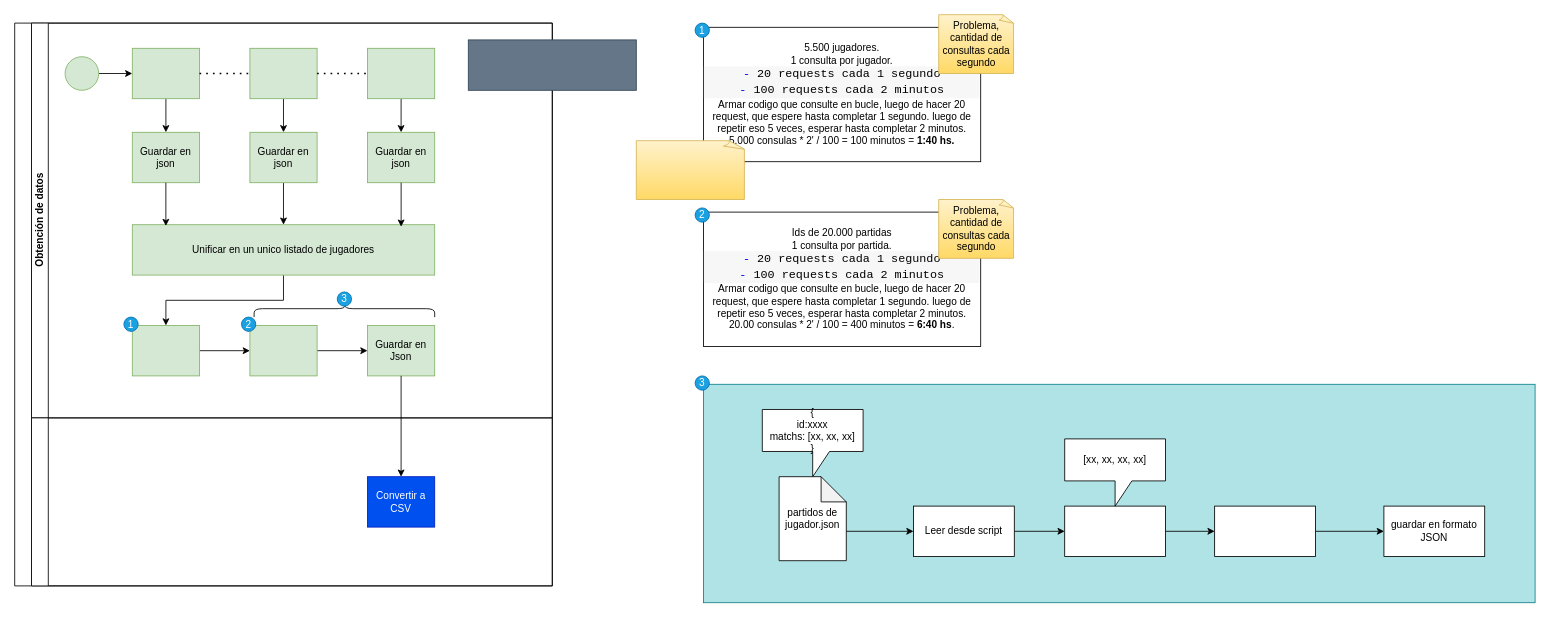
This 1550x617 diagram has some shape labels left out. Each missing label, with the box of its shape:
1ro arma bucle, luego resolvemos la espera * request: (635, 140, 746, 200)
Aislado de datos: (31, 417, 552, 586)
Armar arreglo solo con partidos: (1064, 505, 1166, 556)
Codigo ids 20 partidas* jugador: (131, 325, 200, 376)
Codigo listado Challenger: (131, 47, 200, 99)
Codigo listado GrandMaster: (249, 47, 317, 99)
Codigo listado Master: (367, 47, 435, 99)
Detalles de cada partida: (249, 325, 317, 376)
Pool: (14, 22, 552, 586)
por cada id recuperar datos de partido: (1214, 505, 1315, 556)
Servidor = LATAM1 Partidas = RANKED_FLEX_SR: (467, 39, 636, 90)
